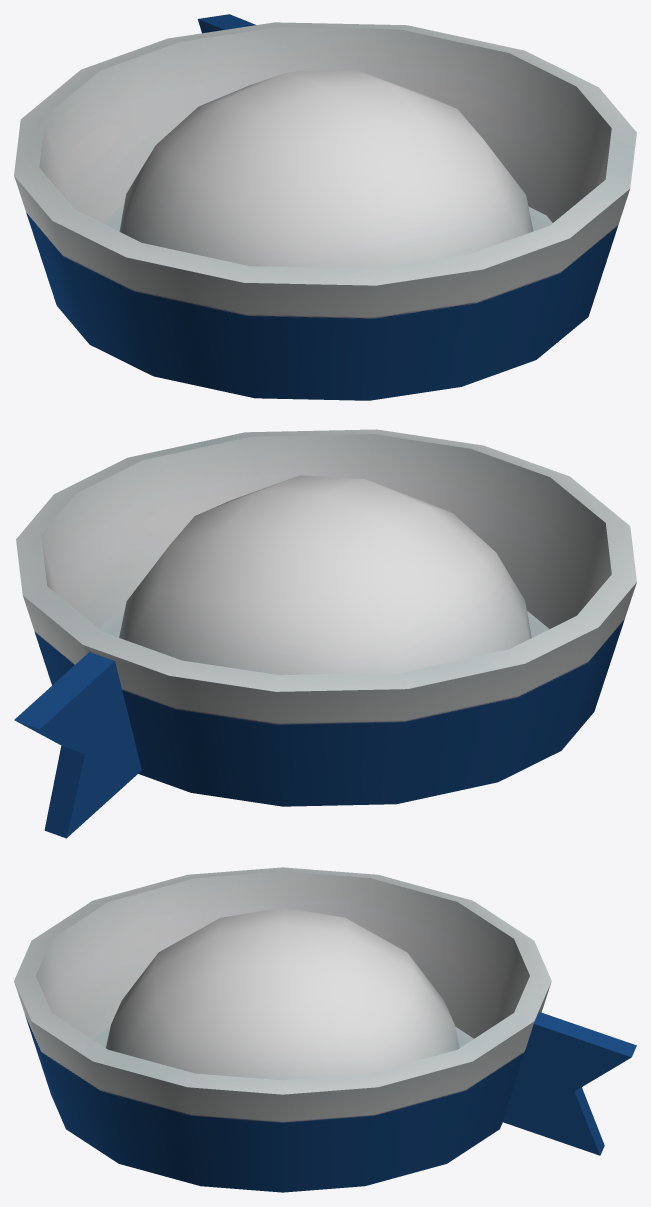
File: m_SailorHat01.obj
3 renders of one model, top to bottom at view 1: azimuth 30°, elevation 25°; view 2: azimuth 150°, elevation 25°; view 3: azimuth 270°, elevation 25°, orthographic. The views are drawn at different scales.
Parts seen in each view (by area): view 1: m_SailorHat01_mi_SailorHat; view 2: m_SailorHat01_mi_SailorHat; view 3: m_SailorHat01_mi_SailorHat.
Part boxes in pixels (bbox=[...]): m_SailorHat01_mi_SailorHat: bbox=[14, 14, 636, 400]; m_SailorHat01_mi_SailorHat: bbox=[14, 429, 636, 838]; m_SailorHat01_mi_SailorHat: bbox=[14, 867, 636, 1192].
Size of the model in its own units: 0.5983 by 0.2338 by 0.693.
Materials: 1 (1 with a texture image).
